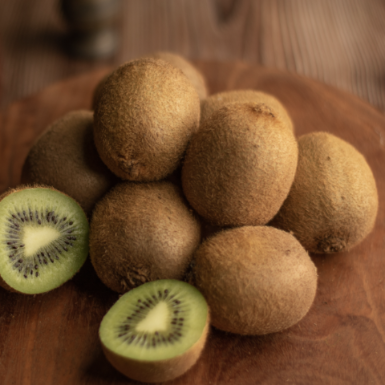kiwi: (168, 97, 302, 223), (173, 225, 330, 332), (74, 178, 204, 299), (82, 51, 202, 177), (274, 130, 380, 267)
